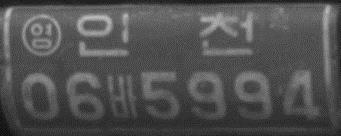0: (20, 71, 61, 121)
4: (281, 68, 323, 123)
5: (140, 69, 181, 122)
6: (65, 70, 107, 123)
9: (185, 68, 230, 122), (233, 68, 275, 122)
바: (105, 72, 141, 121)
영: (22, 12, 63, 56)
인천_D: (75, 10, 258, 58)
